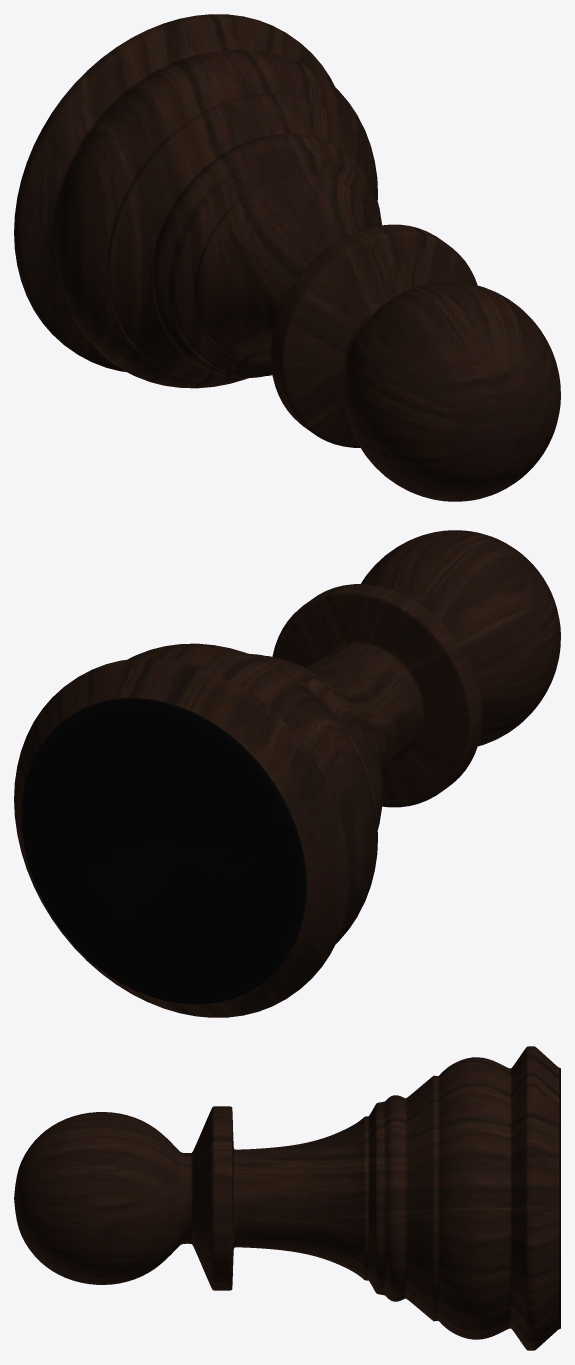
Rendered from pawn.glb.
3 views of the same model, one above another, from view 1: azimuth 30°, elevation 25°; view 2: azimuth 150°, elevation 25°; view 3: azimuth 270°, elevation 25° (orthographic). The views are drawn at different scales.
Visible parts, largest first — view 1: Node1; view 2: Node1; view 3: Node1.
Part boxes in pixels (x1,y1,x2,y2): Node1: (14, 14, 560, 501); Node1: (14, 530, 560, 1017); Node1: (14, 1046, 560, 1350).
Bounding box in the file's own units: 4.56 × 4.56 × 8.17.
1 material, 1 textured.
